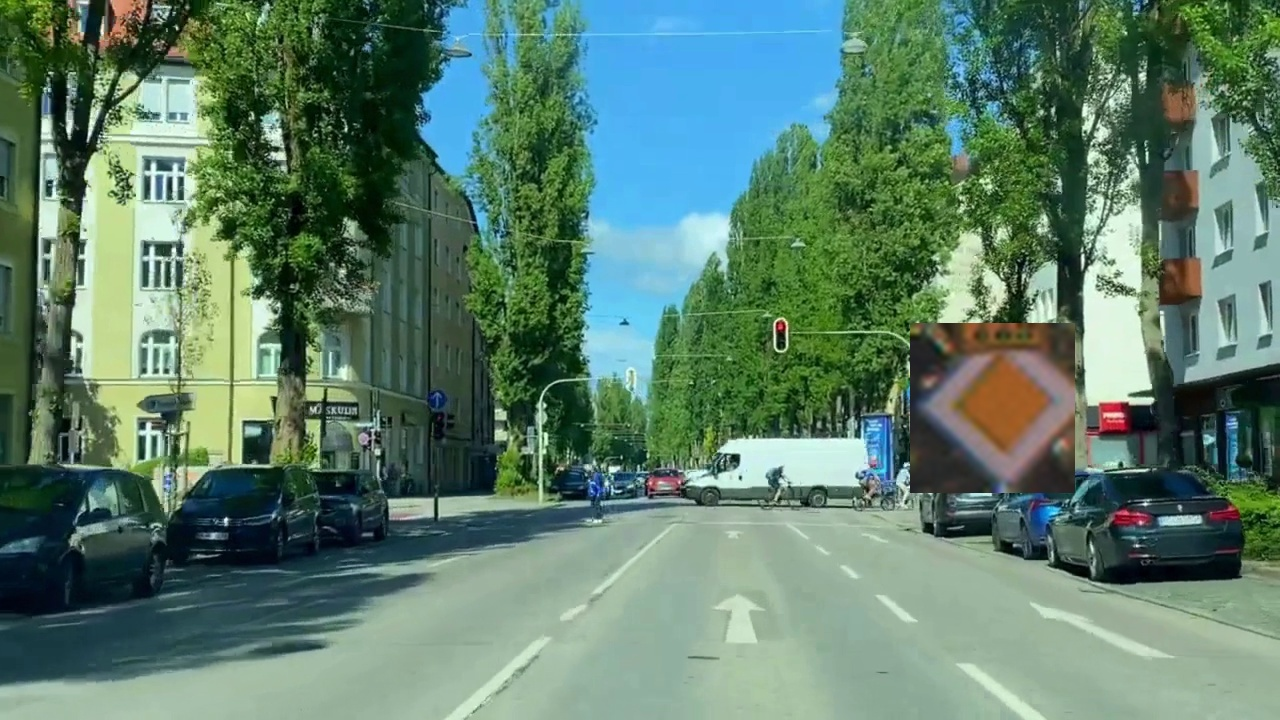Priority road: (910, 323, 1075, 493)
